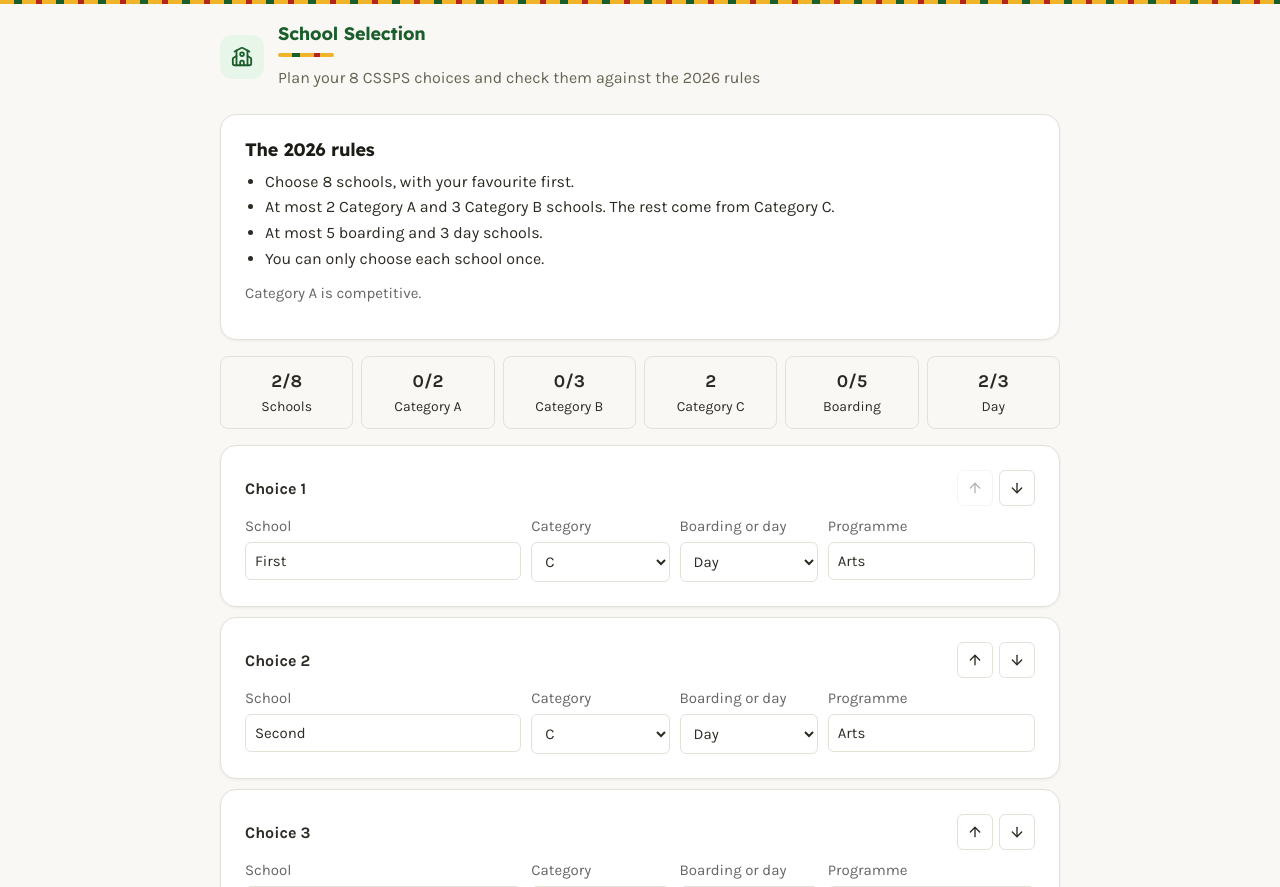
Test case: SchoolChoiceModule › reorders choices
The image size is (1280, 887).
Expected: the heading "The 2026 rules" is shown, [245,138,375,161]
Click the button named "Move choice 2 up".
click(975, 660)  # box [957,642,993,678]
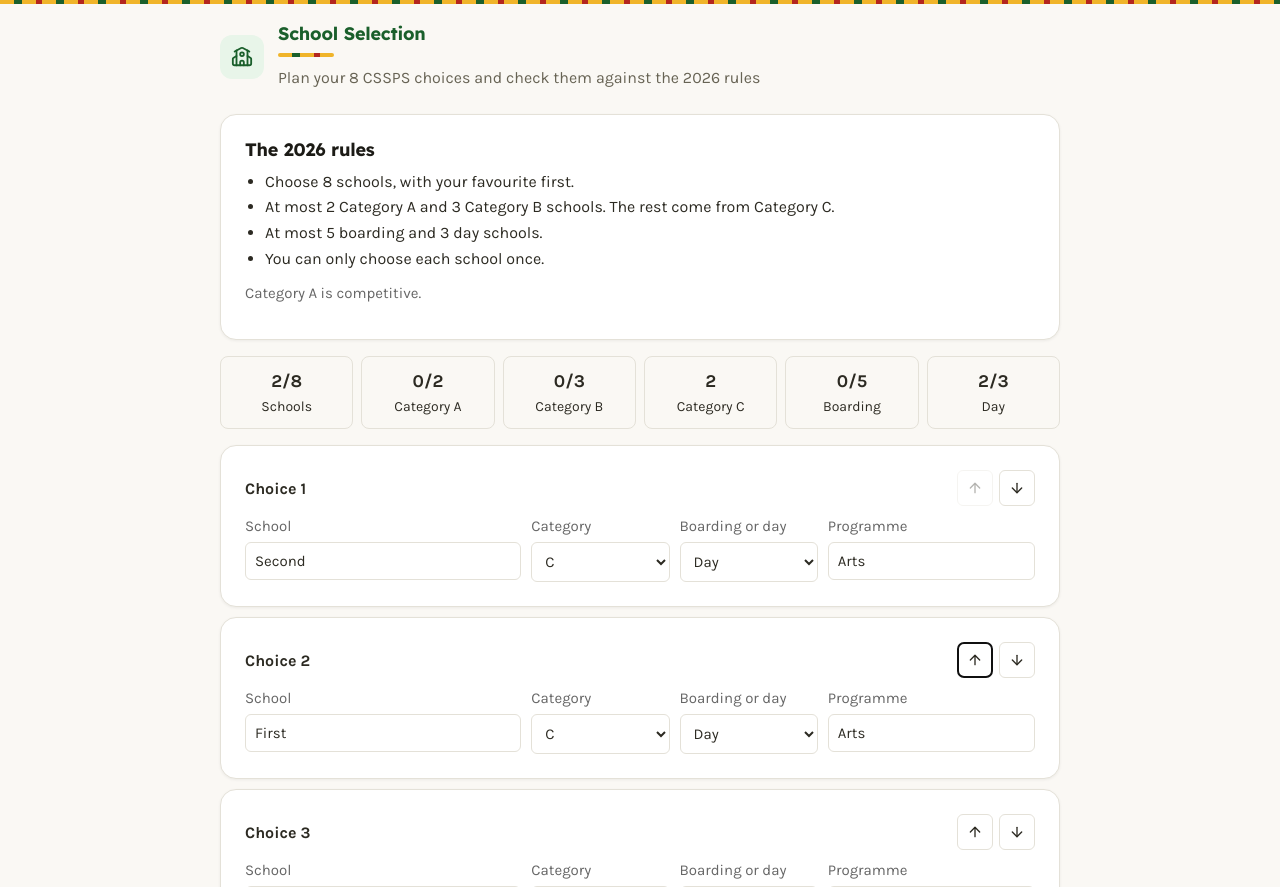
Now the 1st field with placeholder "Name as it appears in the register" holds "Second", box [245,542,521,580]
Now the 2nd field with placeholder "Name as it appears in the register" holds "First", box [245,714,521,752]
